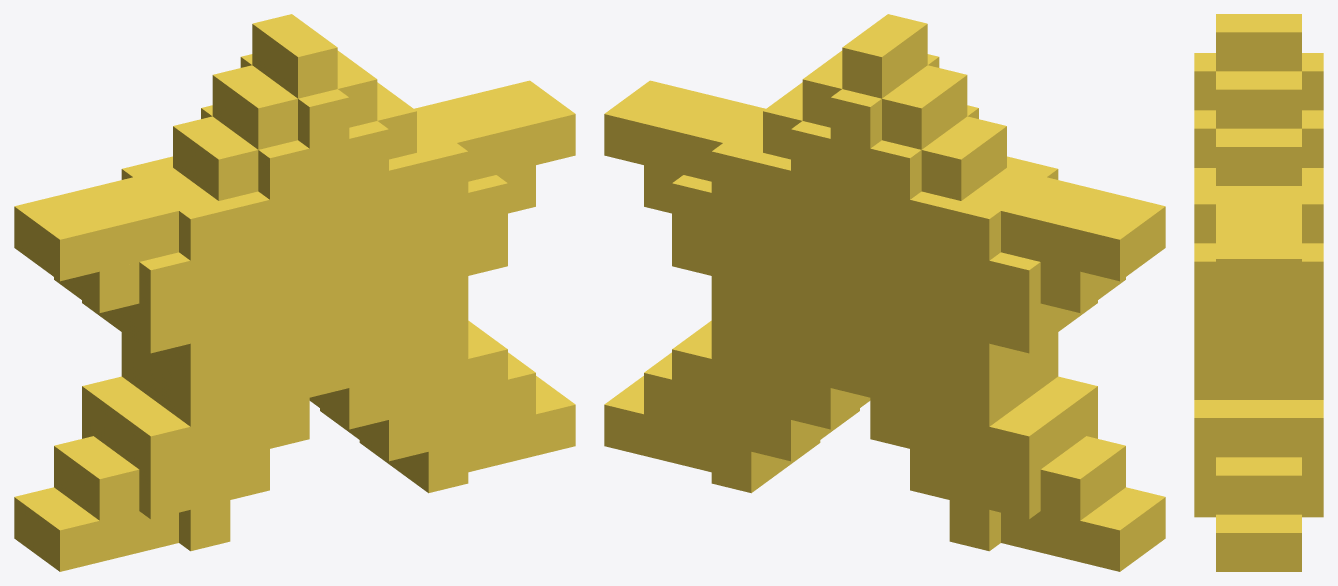
The model's file is star.fbx.
The picture shows the model from 3 angles, left to right: view 1: azimuth 30°, elevation 25°; view 2: azimuth 150°, elevation 25°; view 3: azimuth 270°, elevation 25°; orthographic projection. The views are drawn at different scales.
Visible parts, largest first — view 1: generated; view 2: generated; view 3: generated.
Boxes of the visible parts, box(x1,y1,x2,y2) form: generated: box(14, 14, 575, 571); generated: box(604, 14, 1165, 571); generated: box(1194, 14, 1323, 571).
Bounding box in the file's own units: 130 × 110 × 30.
